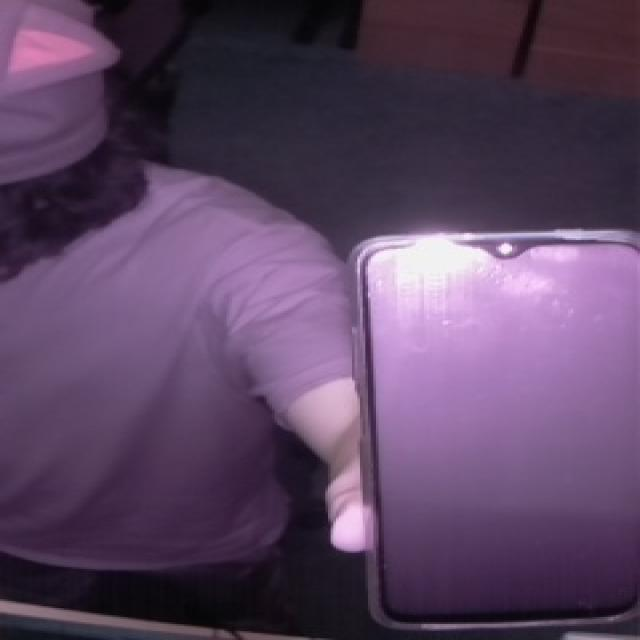phone: (337, 215, 640, 638)
